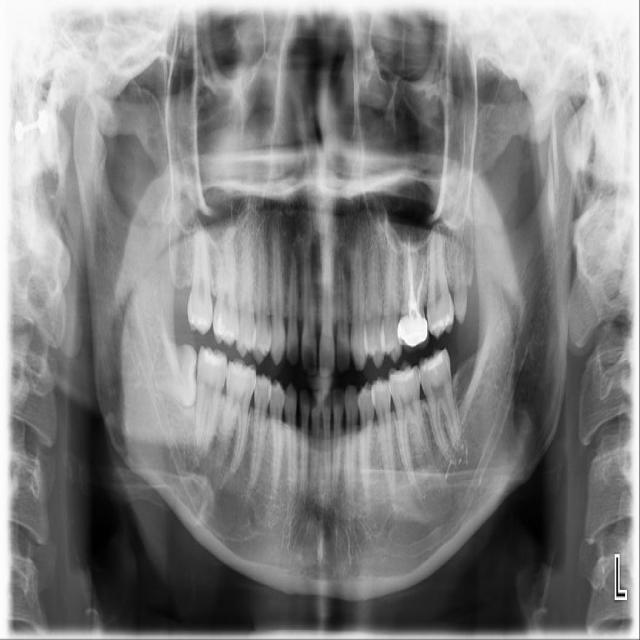52: (412, 344, 458, 400), (396, 312, 431, 355), (212, 298, 239, 347)
73: (401, 229, 429, 316), (568, 564, 570, 568)
BioHorizons Implant: (426, 228, 455, 340)
BioLife Implant: (454, 237, 468, 325)
Blue Sky Bio Implant: (415, 346, 463, 461)
Caries: (177, 219, 216, 337)
Implant: (193, 343, 229, 460)
Keystone Dental Implant: (153, 327, 205, 408)
